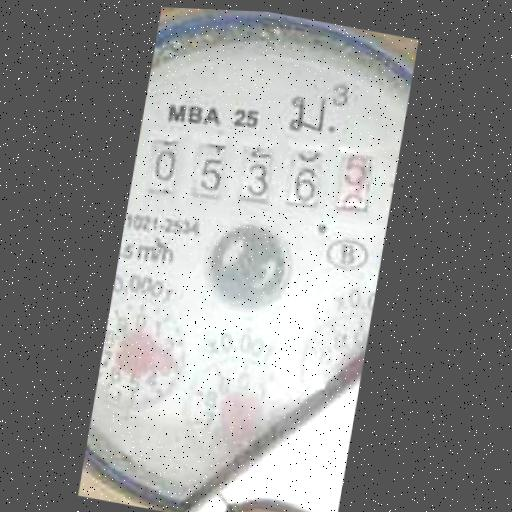0: (147, 137, 181, 196)
3: (238, 145, 275, 202)
5: (335, 152, 374, 213), (191, 140, 227, 199)
6: (289, 148, 324, 208)
border_water_meter_number: (135, 108, 383, 240)
